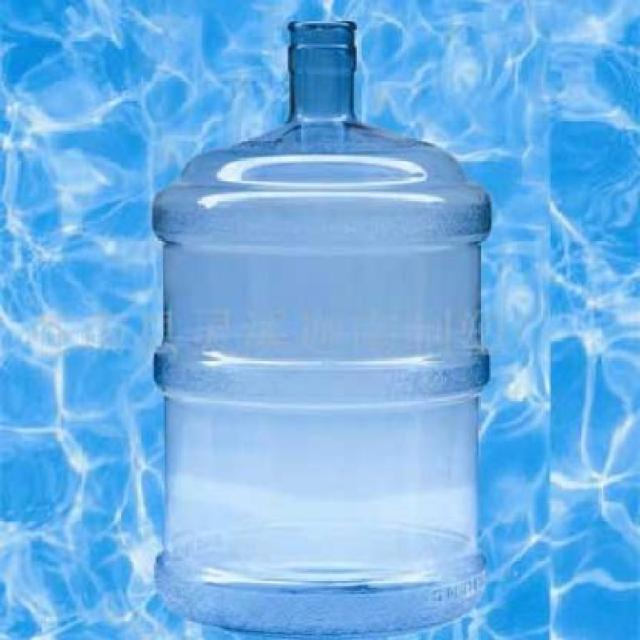coolerbottle: (151, 11, 498, 640)
